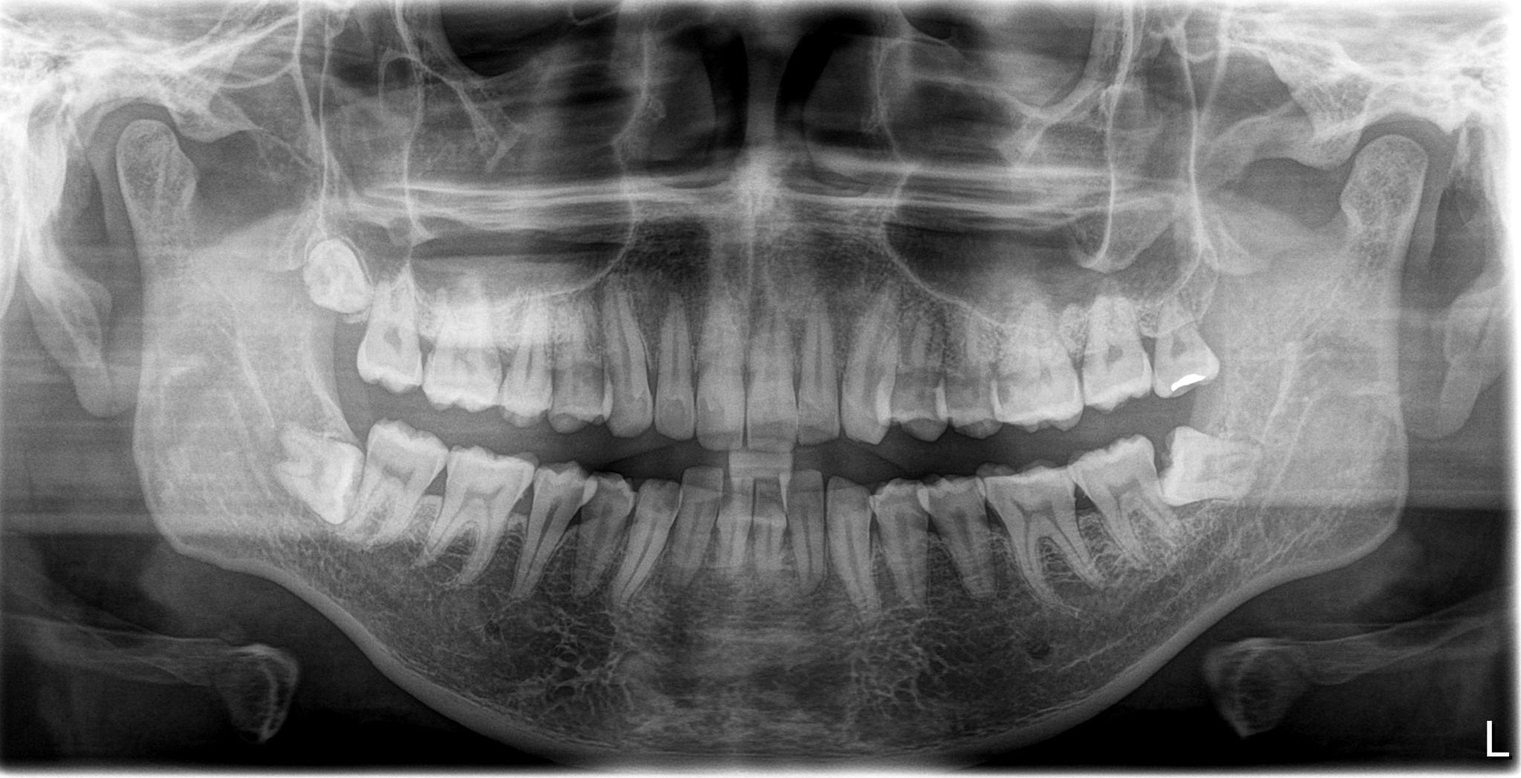Impacted Third Molar: (1159, 418, 1284, 521), (266, 410, 359, 523), (288, 238, 368, 328)
